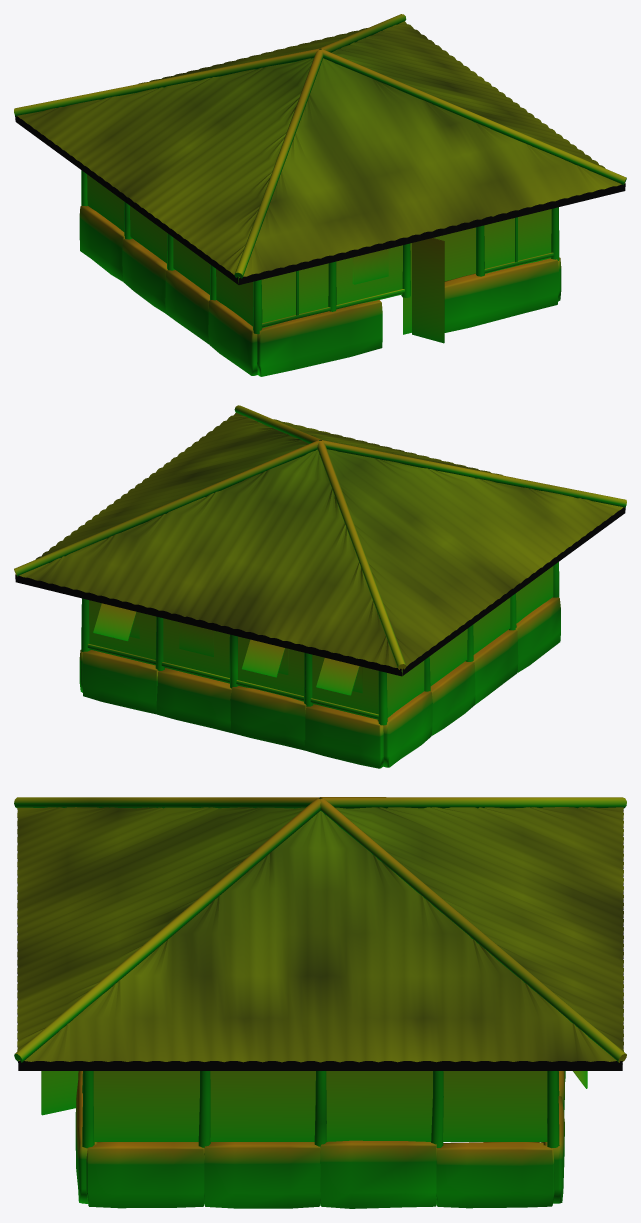
File: house_lane_a.glb
3 views of the same model, one above another, from view 1: azimuth 30°, elevation 25°; view 2: azimuth 150°, elevation 25°; view 3: azimuth 270°, elevation 25° (orthographic). The views are drawn at different scales.
Parts seen in each view (by area): view 1: house_lane_a; view 2: house_lane_a; view 3: house_lane_a.
Part boxes in pixels (x1=…): house_lane_a: x1=14, y1=14, x2=626, y2=376; house_lane_a: x1=14, y1=405, x2=626, y2=768; house_lane_a: x1=14, y1=797, x2=626, y2=1208.
Size of what is drawn, in the model's own units: 7.91 by 4.42 by 7.91.
